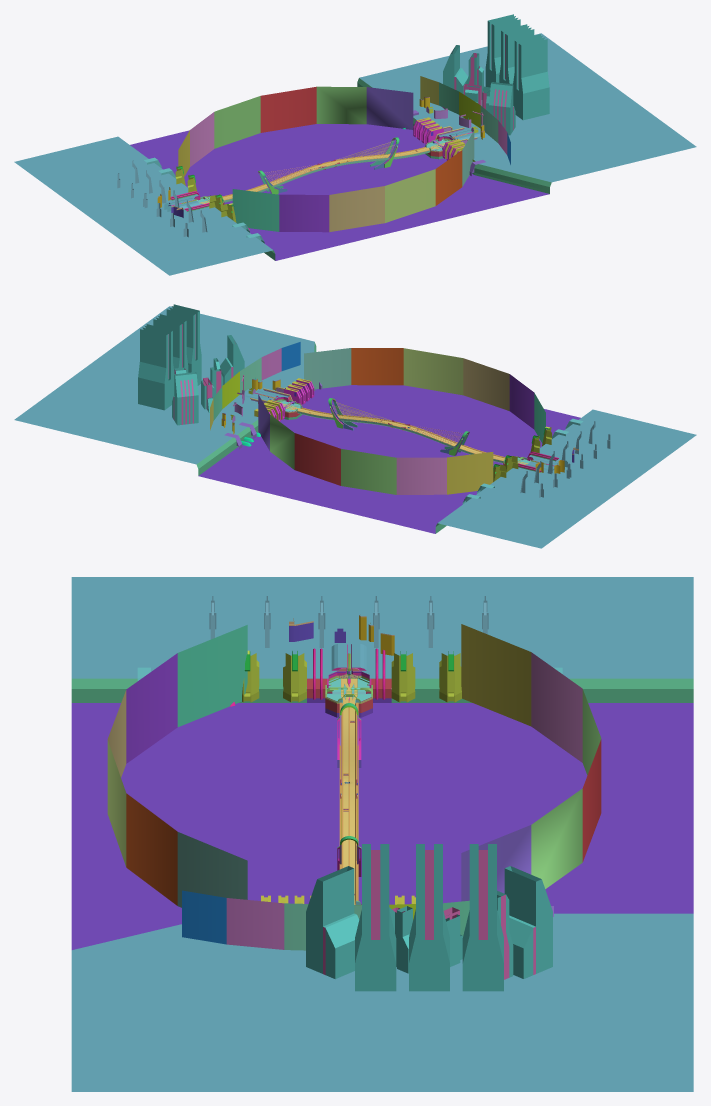
Rendered from newmombasabridge.fbx.
3 renders of one model, top to bottom at view 1: azimuth 30°, elevation 25°; view 2: azimuth 150°, elevation 25°; view 3: azimuth 270°, elevation 25°, orthographic. The views are drawn at different scales.
Parts seen in each view (by area): view 1: cluster_1, cluster_6, cluster_10, buildings_newmombasa, piers_nm, foundation_post_a08, ant_b02, tollpoops, buildings_oldcity; view 2: cluster_1, cluster_6, cluster_10, buildings_newmombasa, piers_nm, foundation_post_a08, ant_b02, tollpoops, buildings_oldcity; view 3: cluster_1, cluster_6, cluster_10, buildings_newmombasa, ant_b02, foundation_post_a08, oldcity2, tollpoops.
Part boxes in pixels (x1,y1,x2,y2): cluster_1: [14, 33, 696, 275]; cluster_6: [130, 124, 425, 203]; cluster_10: [248, 155, 549, 260]; buildings_newmombasa: [402, 14, 549, 175]; piers_nm: [413, 117, 477, 160]; foundation_post_a08: [117, 160, 207, 237]; ant_b02: [175, 136, 443, 222]; tollpoops: [144, 157, 264, 243]; buildings_oldcity: [419, 97, 484, 139]; cluster_1: [14, 306, 696, 548]; cluster_6: [198, 416, 493, 533]; cluster_10: [302, 384, 580, 463]; buildings_newmombasa: [138, 304, 322, 449]; piers_nm: [250, 378, 314, 421]; foundation_post_a08: [520, 421, 610, 497]; ant_b02: [493, 426, 551, 481]; tollpoops: [462, 418, 583, 504]; buildings_oldcity: [221, 379, 280, 434]; cluster_1: [71, 577, 693, 1091]; cluster_6: [358, 697, 693, 913]; cluster_10: [71, 694, 339, 949]; buildings_newmombasa: [306, 844, 553, 991]; ant_b02: [242, 650, 461, 702]; foundation_post_a08: [209, 596, 488, 647]; oldcity2: [289, 615, 394, 655]; tollpoops: [137, 648, 562, 706].
Size of what is drawn, in the model's own units: 1.17e+07 by 1964214 by 6515488.
